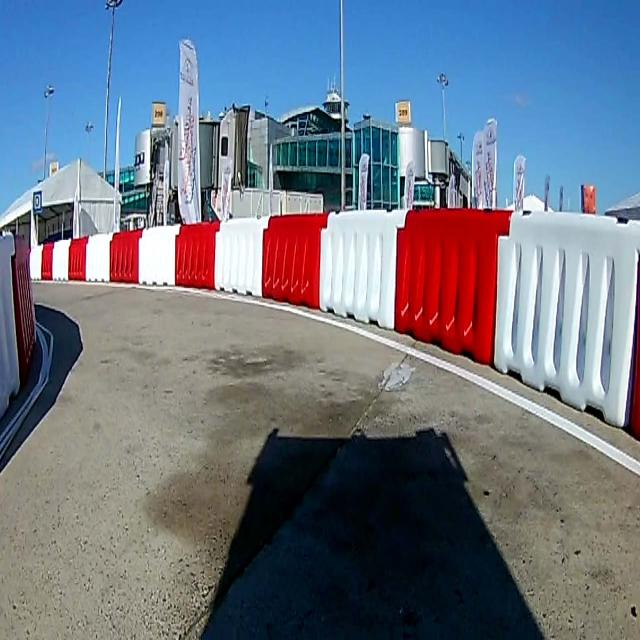durak: (33, 192, 41, 212)
